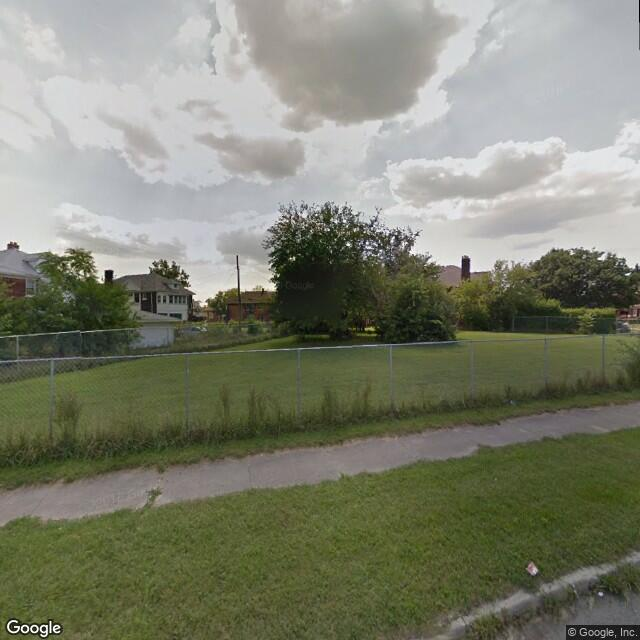litter: (515, 554, 547, 577), (594, 586, 606, 600)
